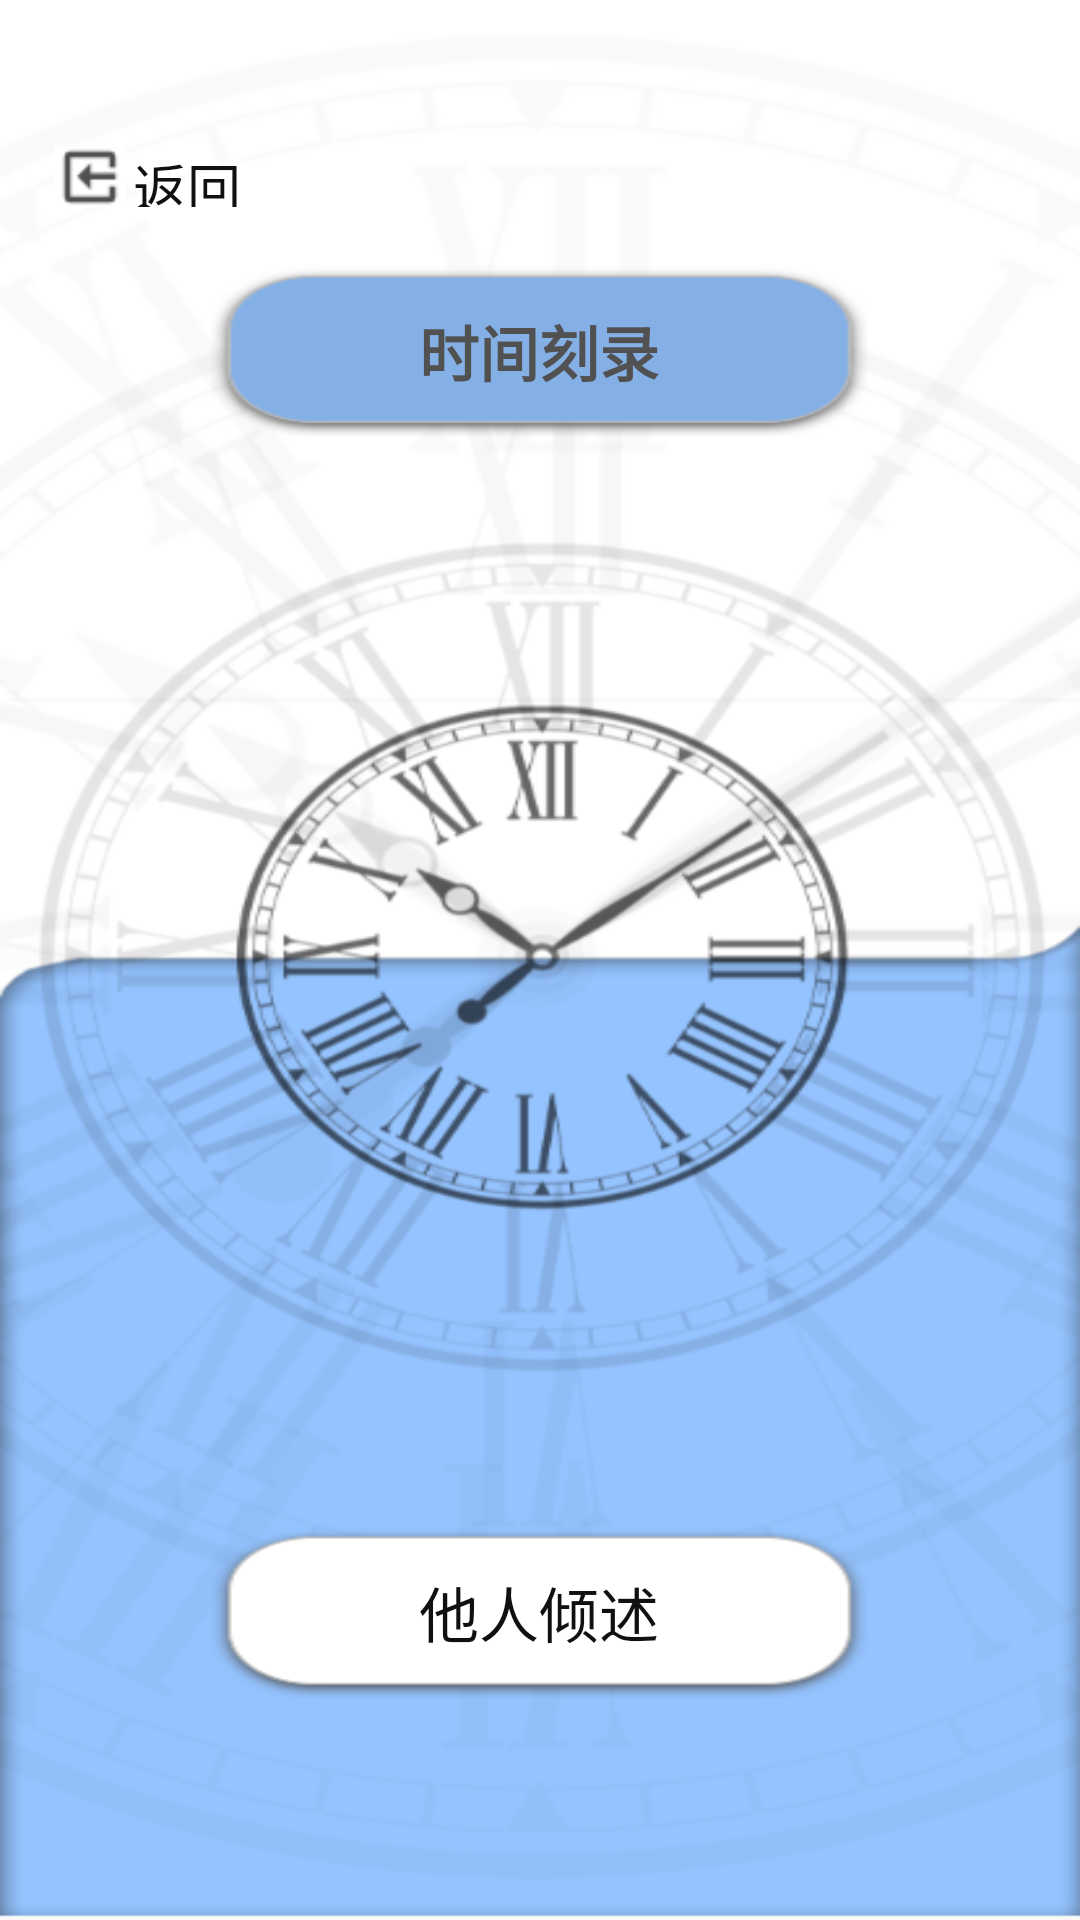

Icon click points for this 1080×1920 phone screenshot, format point (x, y):
return mymail: point (90, 177)
